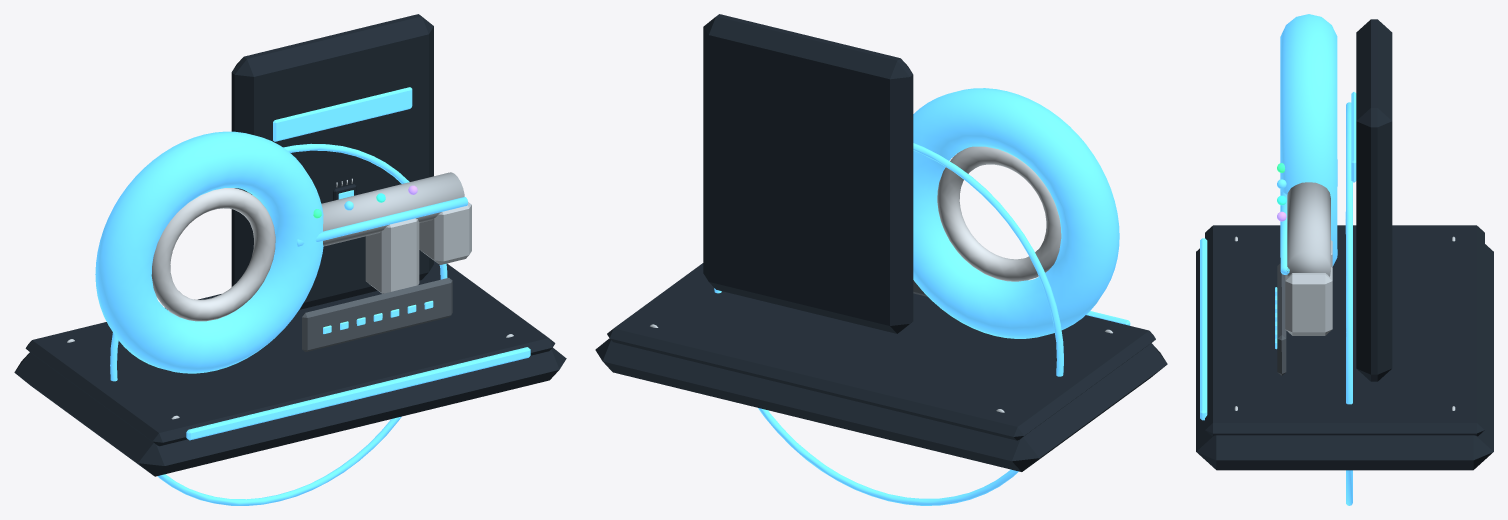
File: Artifact_EDR.glb
The picture shows the model from 3 angles, left to right: view 1: azimuth 30°, elevation 25°; view 2: azimuth 150°, elevation 25°; view 3: azimuth 270°, elevation 25°; orthographic projection. The views are drawn at different scales.
Parts seen in each view (by area): view 1: Artifact_EDR_Body; view 2: Artifact_EDR_Body; view 3: Artifact_EDR_Body.
Part boxes in pixels (bbox=[...]): Artifact_EDR_Body: bbox=[14, 14, 566, 505]; Artifact_EDR_Body: bbox=[595, 14, 1167, 505]; Artifact_EDR_Body: bbox=[1196, 14, 1493, 505].
Size of the model in its own units: 2.28 by 2.24 by 1.32.
